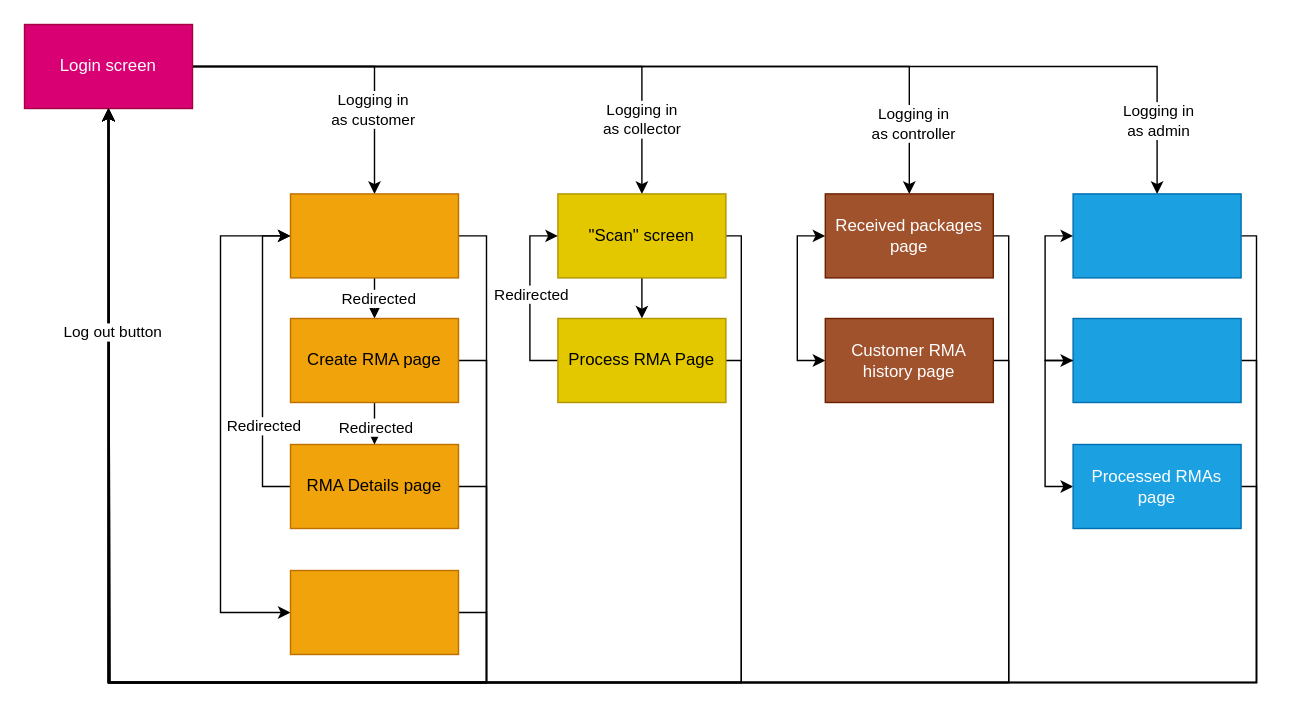
The diagram is 1292 pixels wide and 718 high, and some of its shapes have lost their labels. Each missing label, with the centre of its shape:
"Create user page" goes at point 1156,235.
"Order history page" goes at point 373,611.
"Orders page" goes at point 373,235.
"Users page" goes at point 1156,359.
